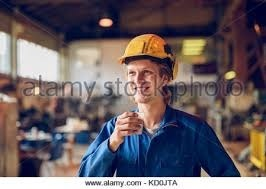helmet: (117, 33, 180, 79)
person with partial safety: (77, 30, 211, 177)
